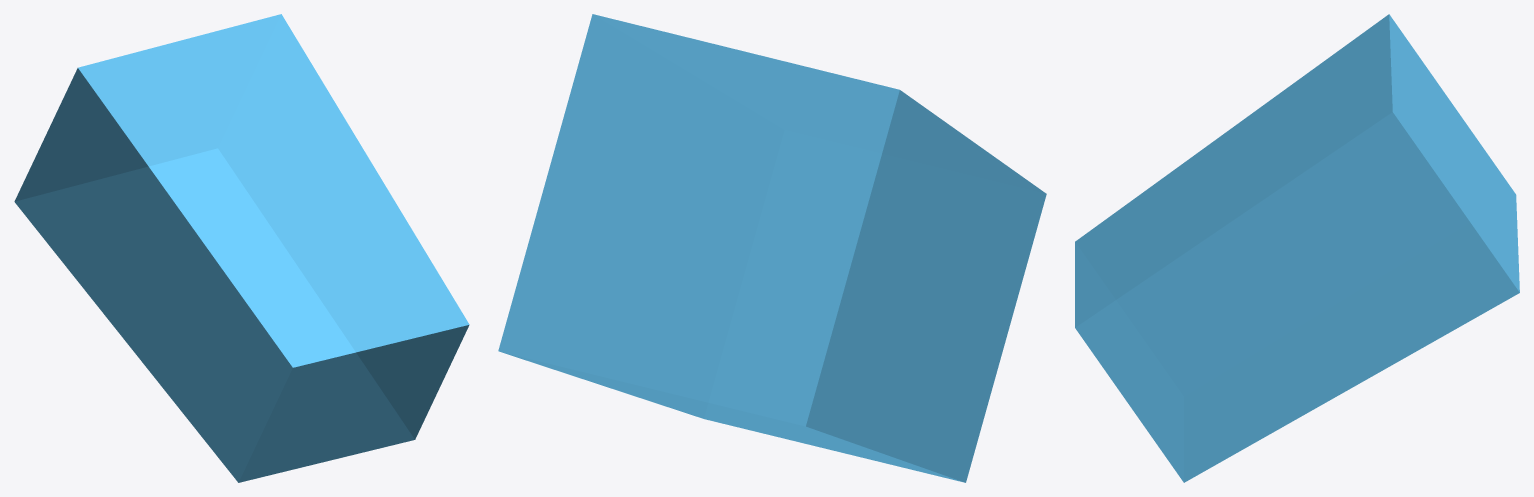
The model's file is Event_420604493_HBrechit_4.fbx.
The picture shows the model from 3 angles, left to right: view 1: azimuth 30°, elevation 25°; view 2: azimuth 150°, elevation 25°; view 3: azimuth 270°, elevation 25°; orthographic projection. The views are drawn at different scales.
Visible parts, largest first — view 1: Model; view 2: Model; view 3: Model.
Part boxes in pixels (box(x1,y1,x2,y2)): Model: box(14, 14, 469, 482); Model: box(498, 14, 1046, 482); Model: box(1075, 14, 1519, 482).
Bounding box in the file's own units: 0.537 × 0.7794 × 0.8812.
